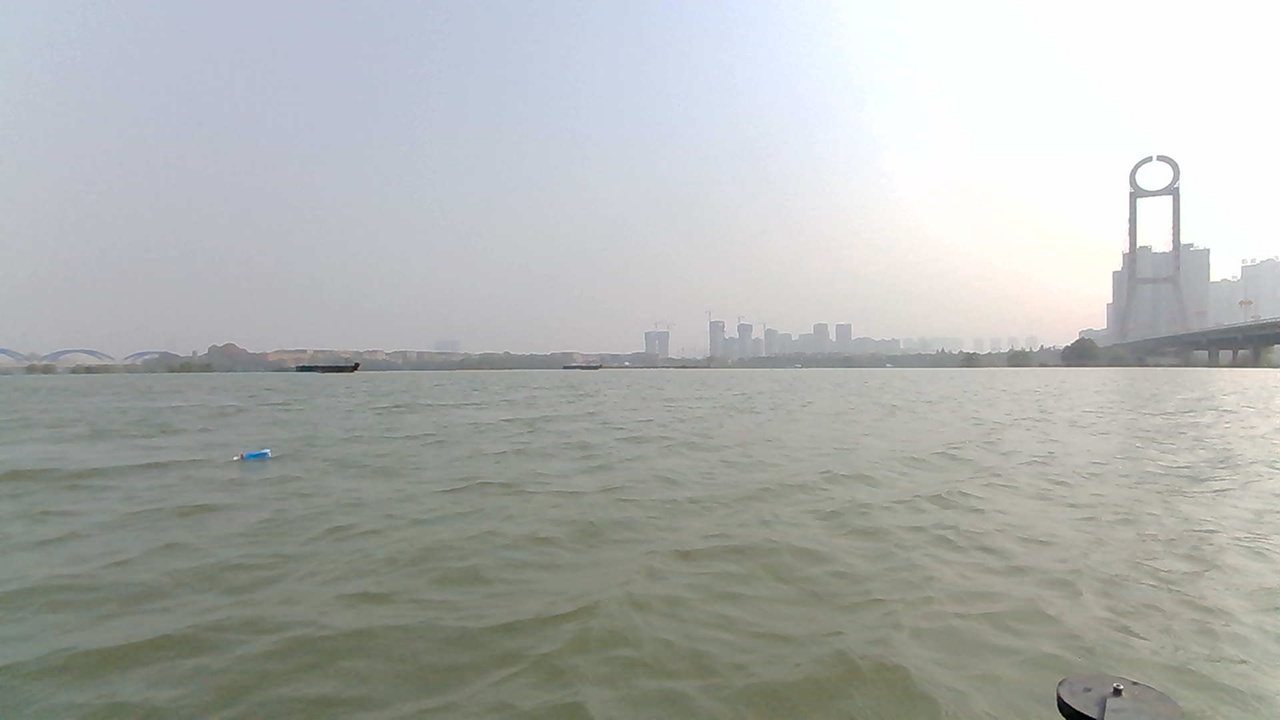bottle: (235, 446, 280, 468)
